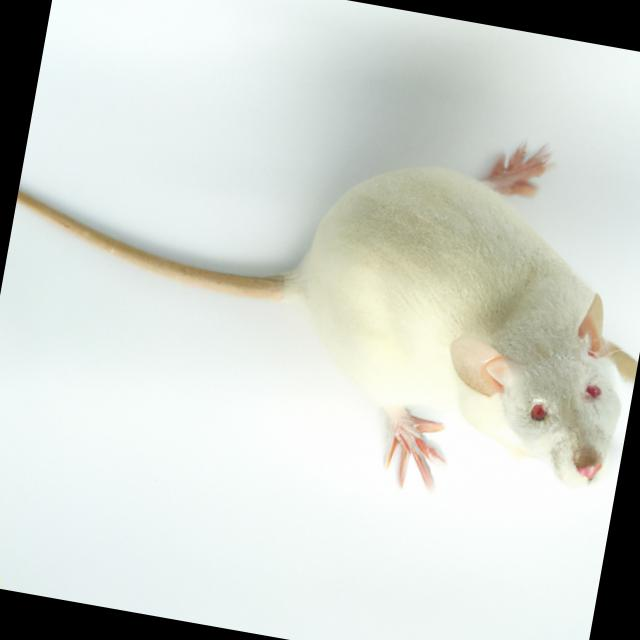rodents: (245, 135, 640, 540)
